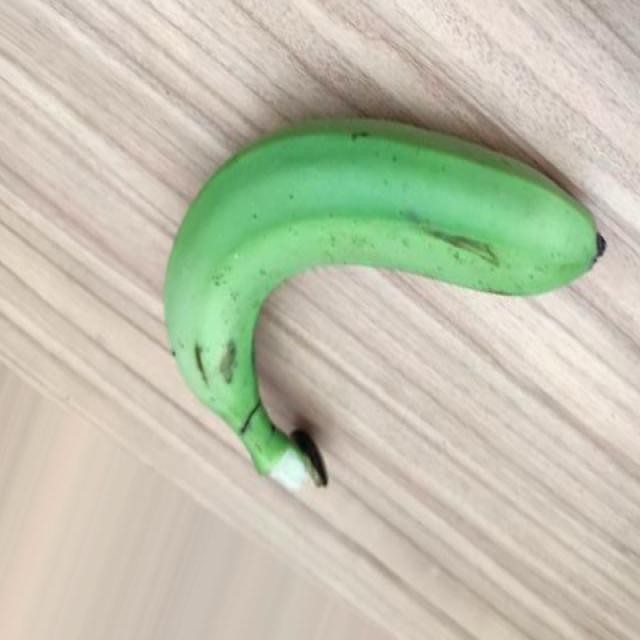Unripe: (162, 111, 607, 490)
